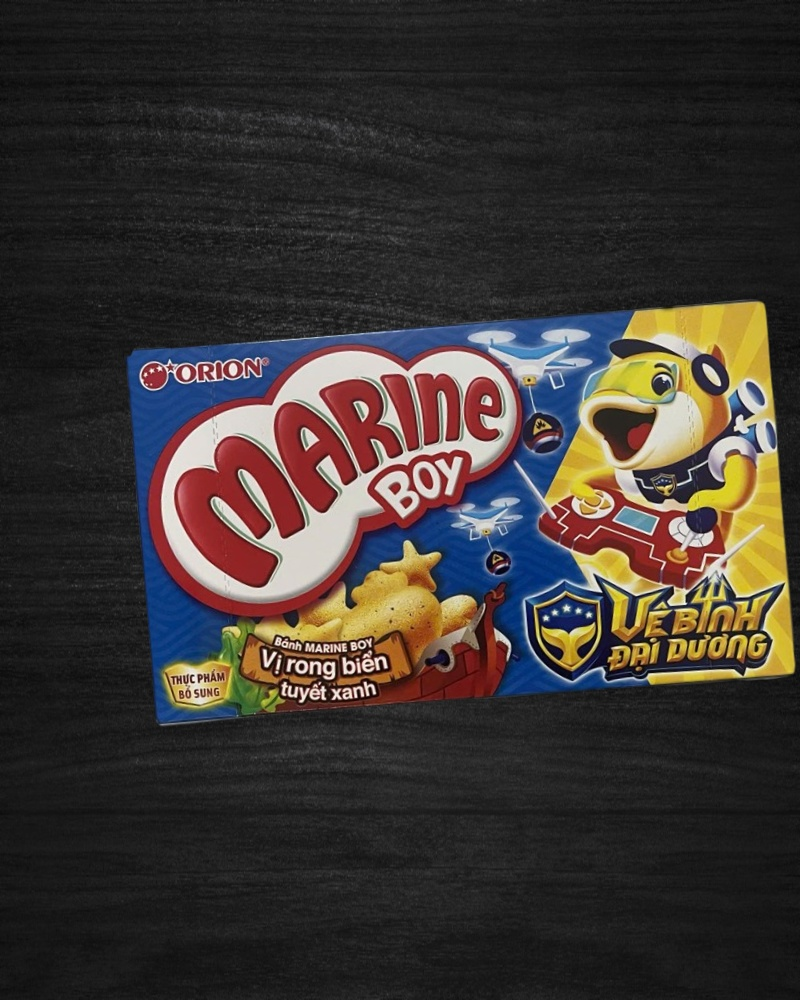Marine: (126, 295, 800, 732)
